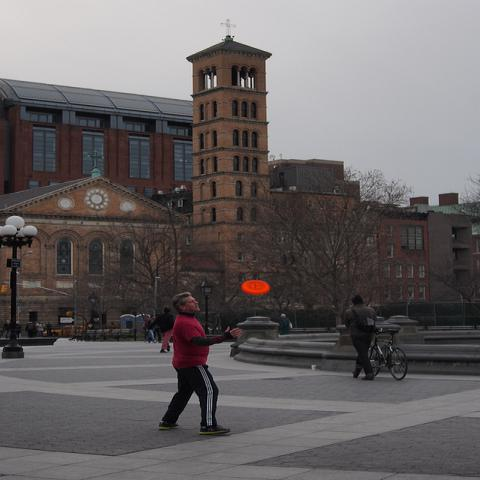car: (44, 324, 84, 338)
